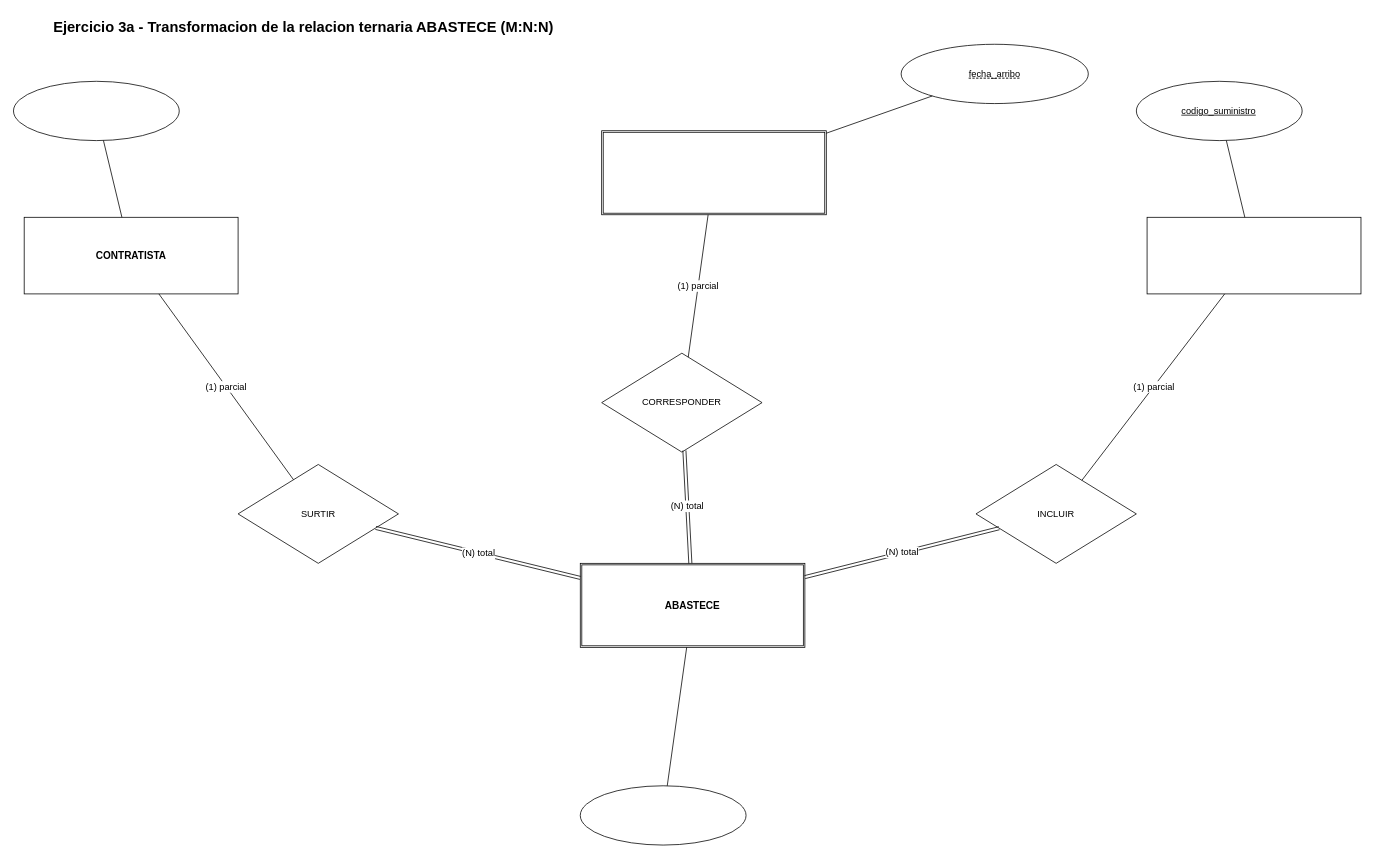
This 1374x859 diagram has some shape labels left out. The centre of each missing label's shape, as x and y in pixels:
"cantidad" goes at [663,815].
"nit" goes at [96,111].
"RECALADA" goes at [713,172].
"SUMINISTRO" goes at [1253,255].
